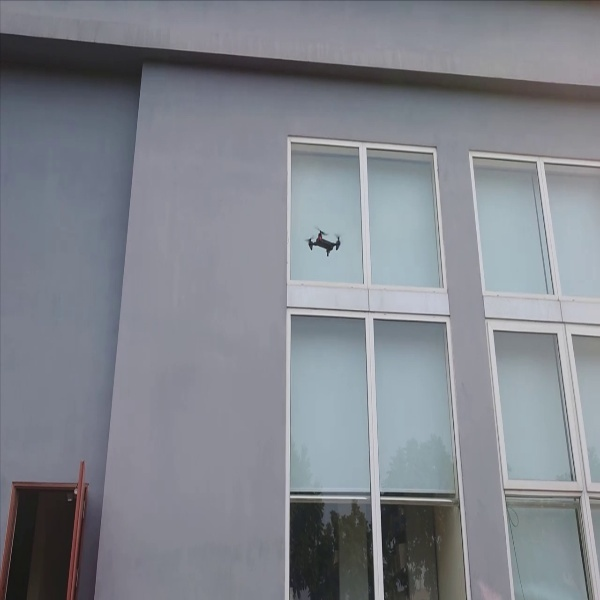drone: (299, 220, 347, 258)
